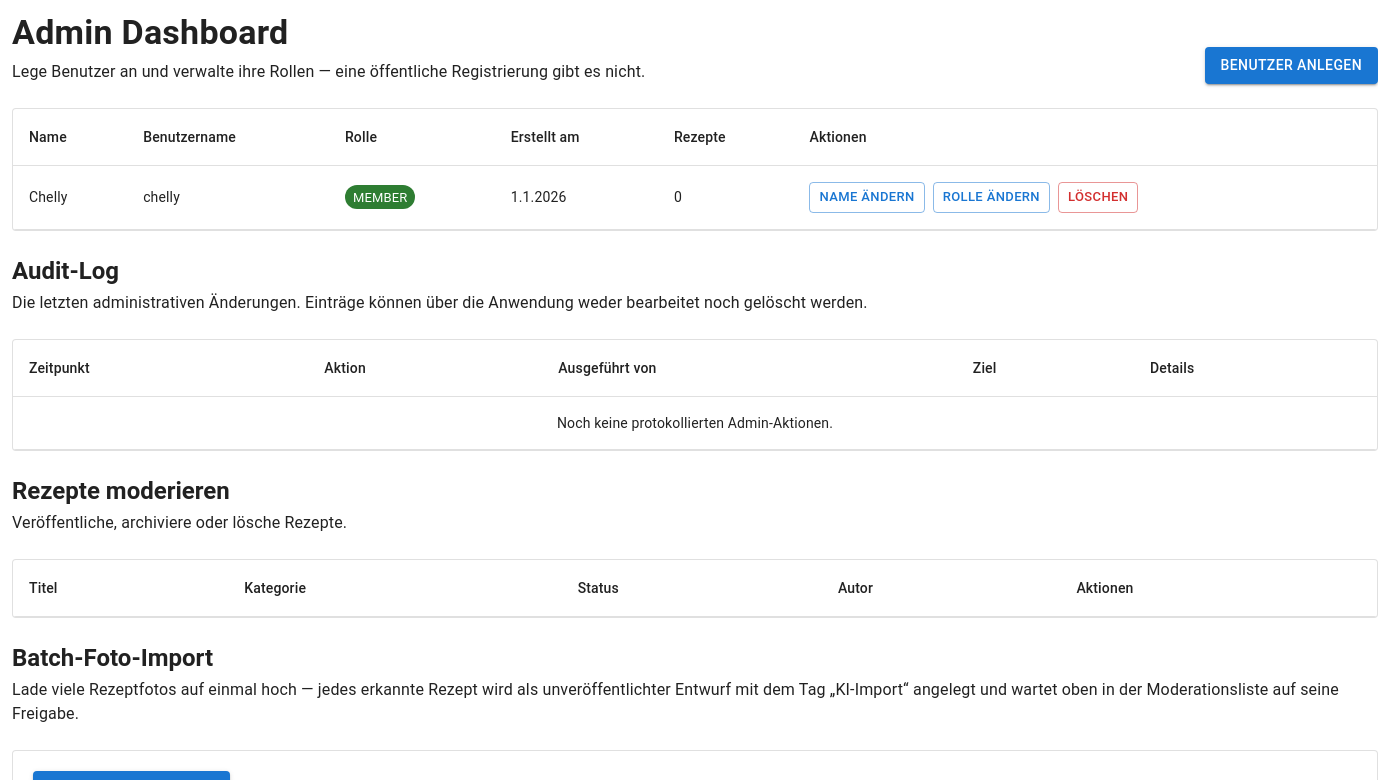
AdminDashboard user creation › deletes a user after confirmation
This screenshot has width=1390, height=780.
Click the button "Löschen" at [1098, 197], box [1058,182,1138,213]
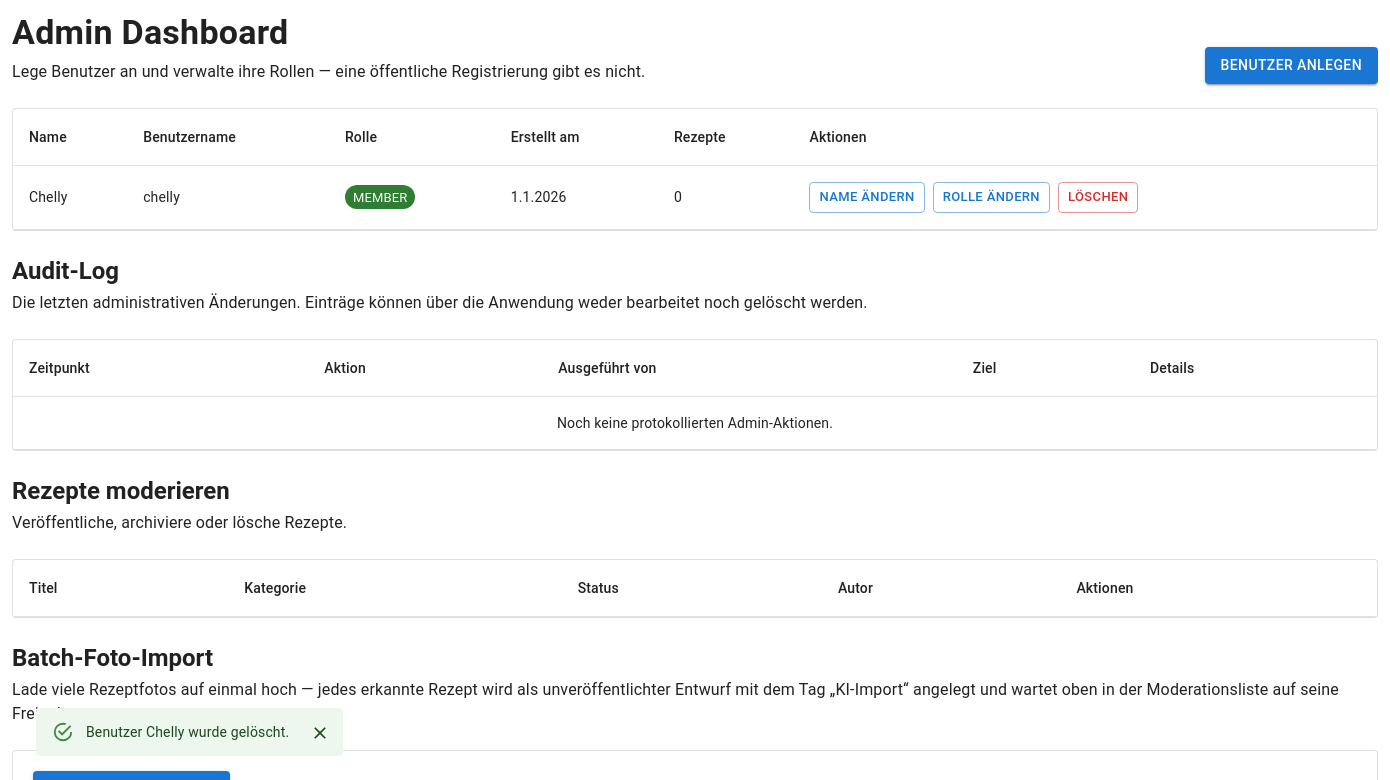
Check: the text "Benutzer Chelly wurde gelöscht." is shown, box [86,724,289,740]
